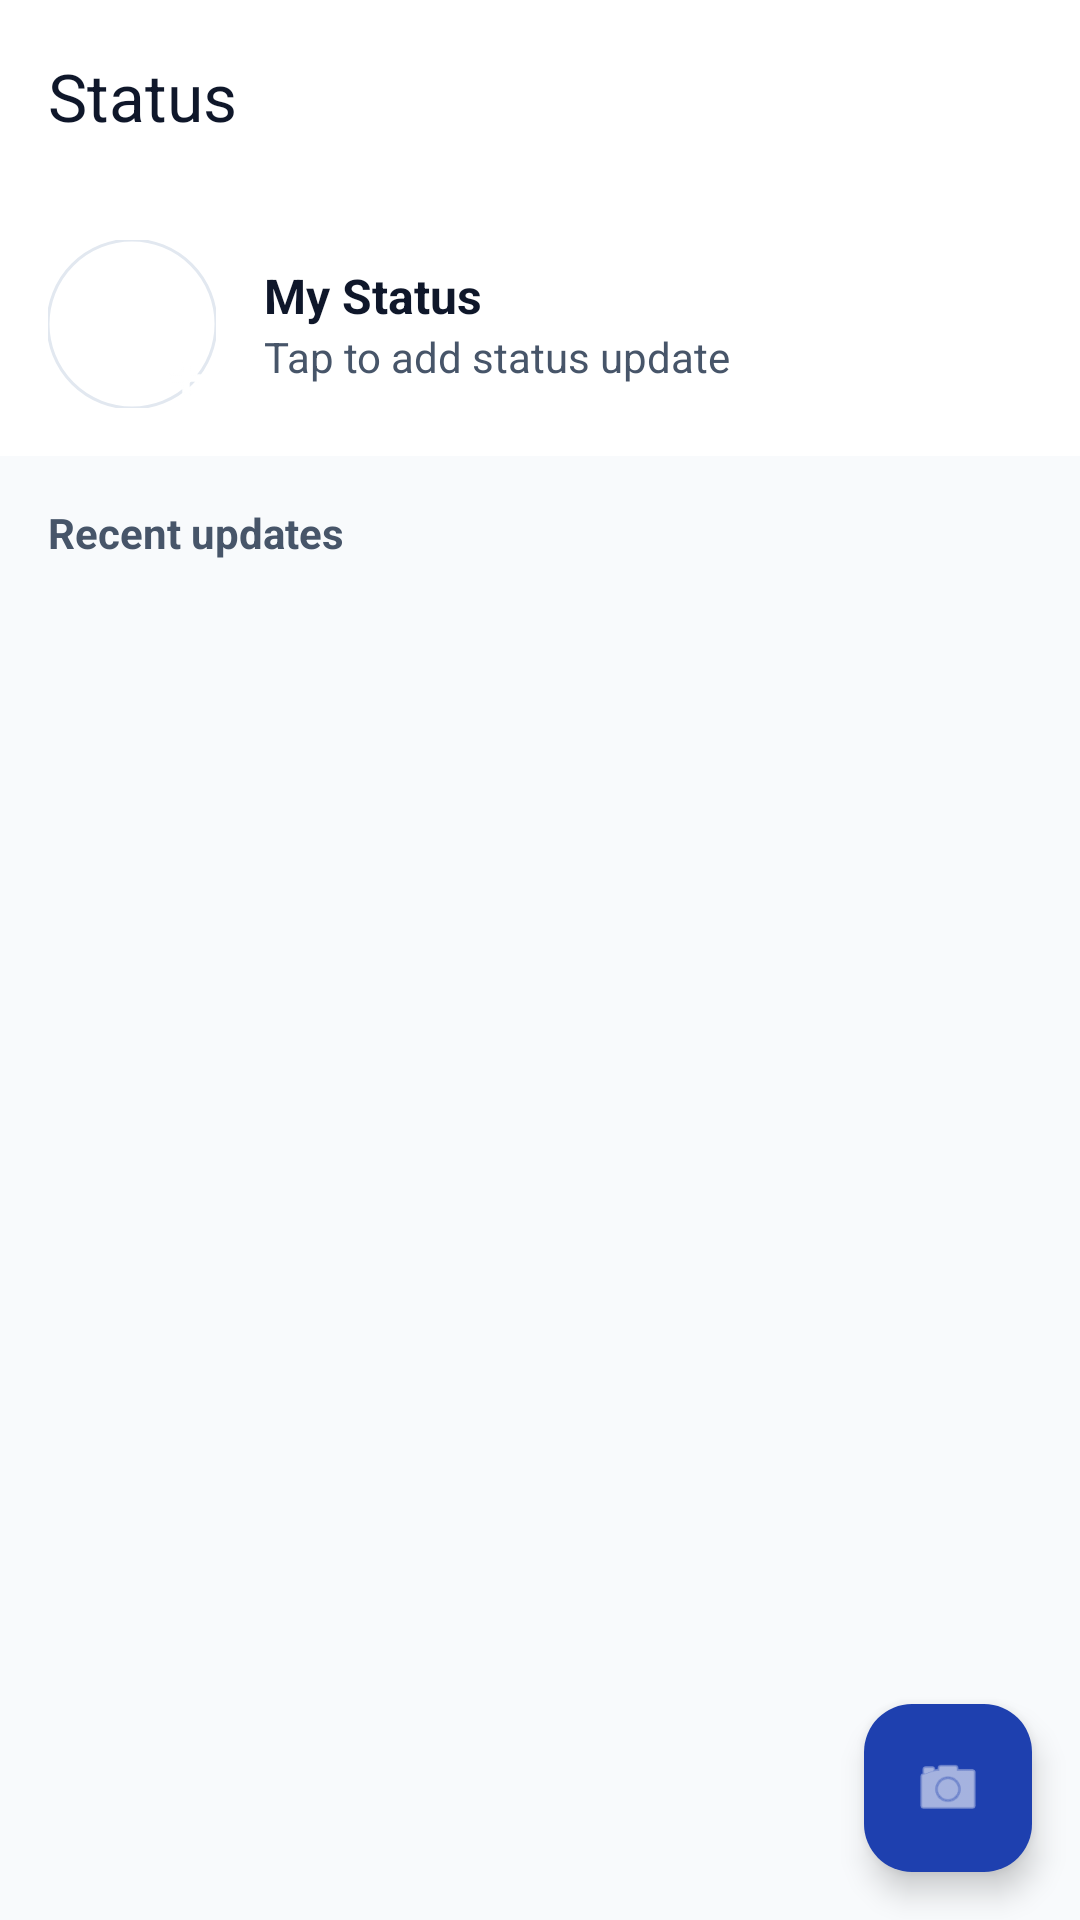

Icons on this 1080×1920 Android screen, each with its box as (x1, y1, x2, y2):
camera: (864, 1704, 1032, 1872)
